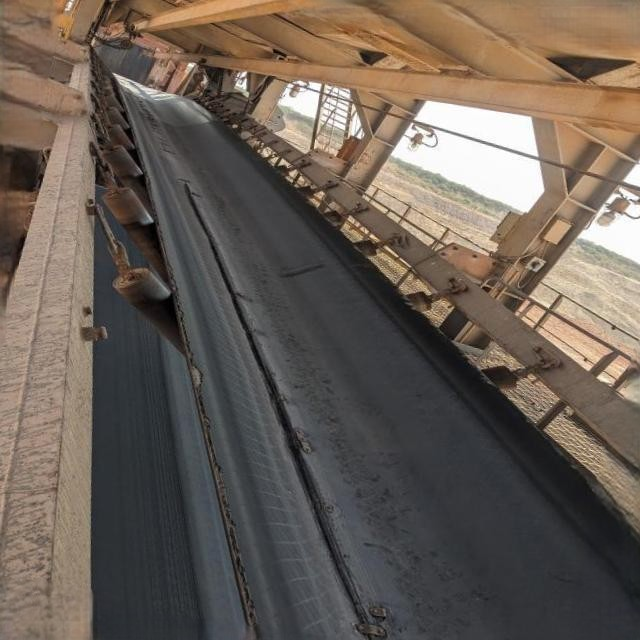Tear: (179, 178, 382, 640)
